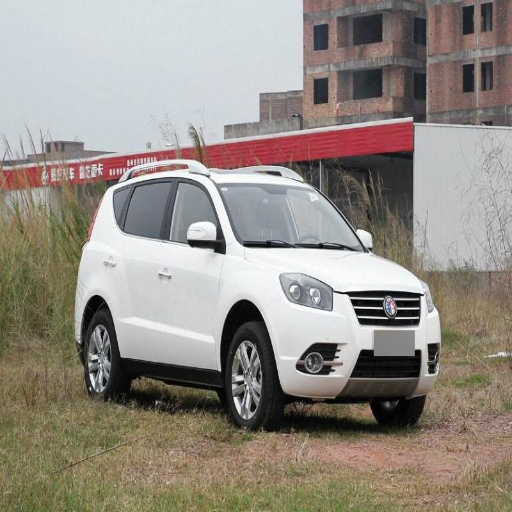front_bumper: (268, 291, 441, 399)
front_right_door: (159, 175, 222, 367)
front_right_light: (279, 272, 333, 309)
hood: (270, 248, 425, 290)
